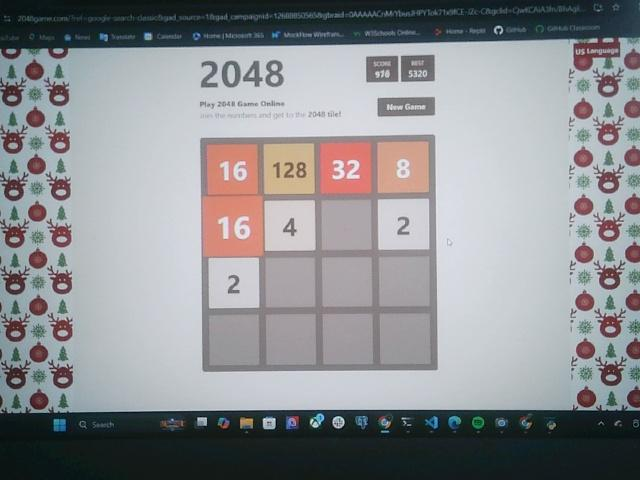board: (202, 138, 436, 370)
tile: (202, 196, 264, 257), (321, 142, 371, 194), (265, 144, 316, 194), (379, 143, 429, 194), (379, 199, 429, 250), (209, 257, 259, 308), (208, 144, 258, 194), (265, 201, 316, 250)
